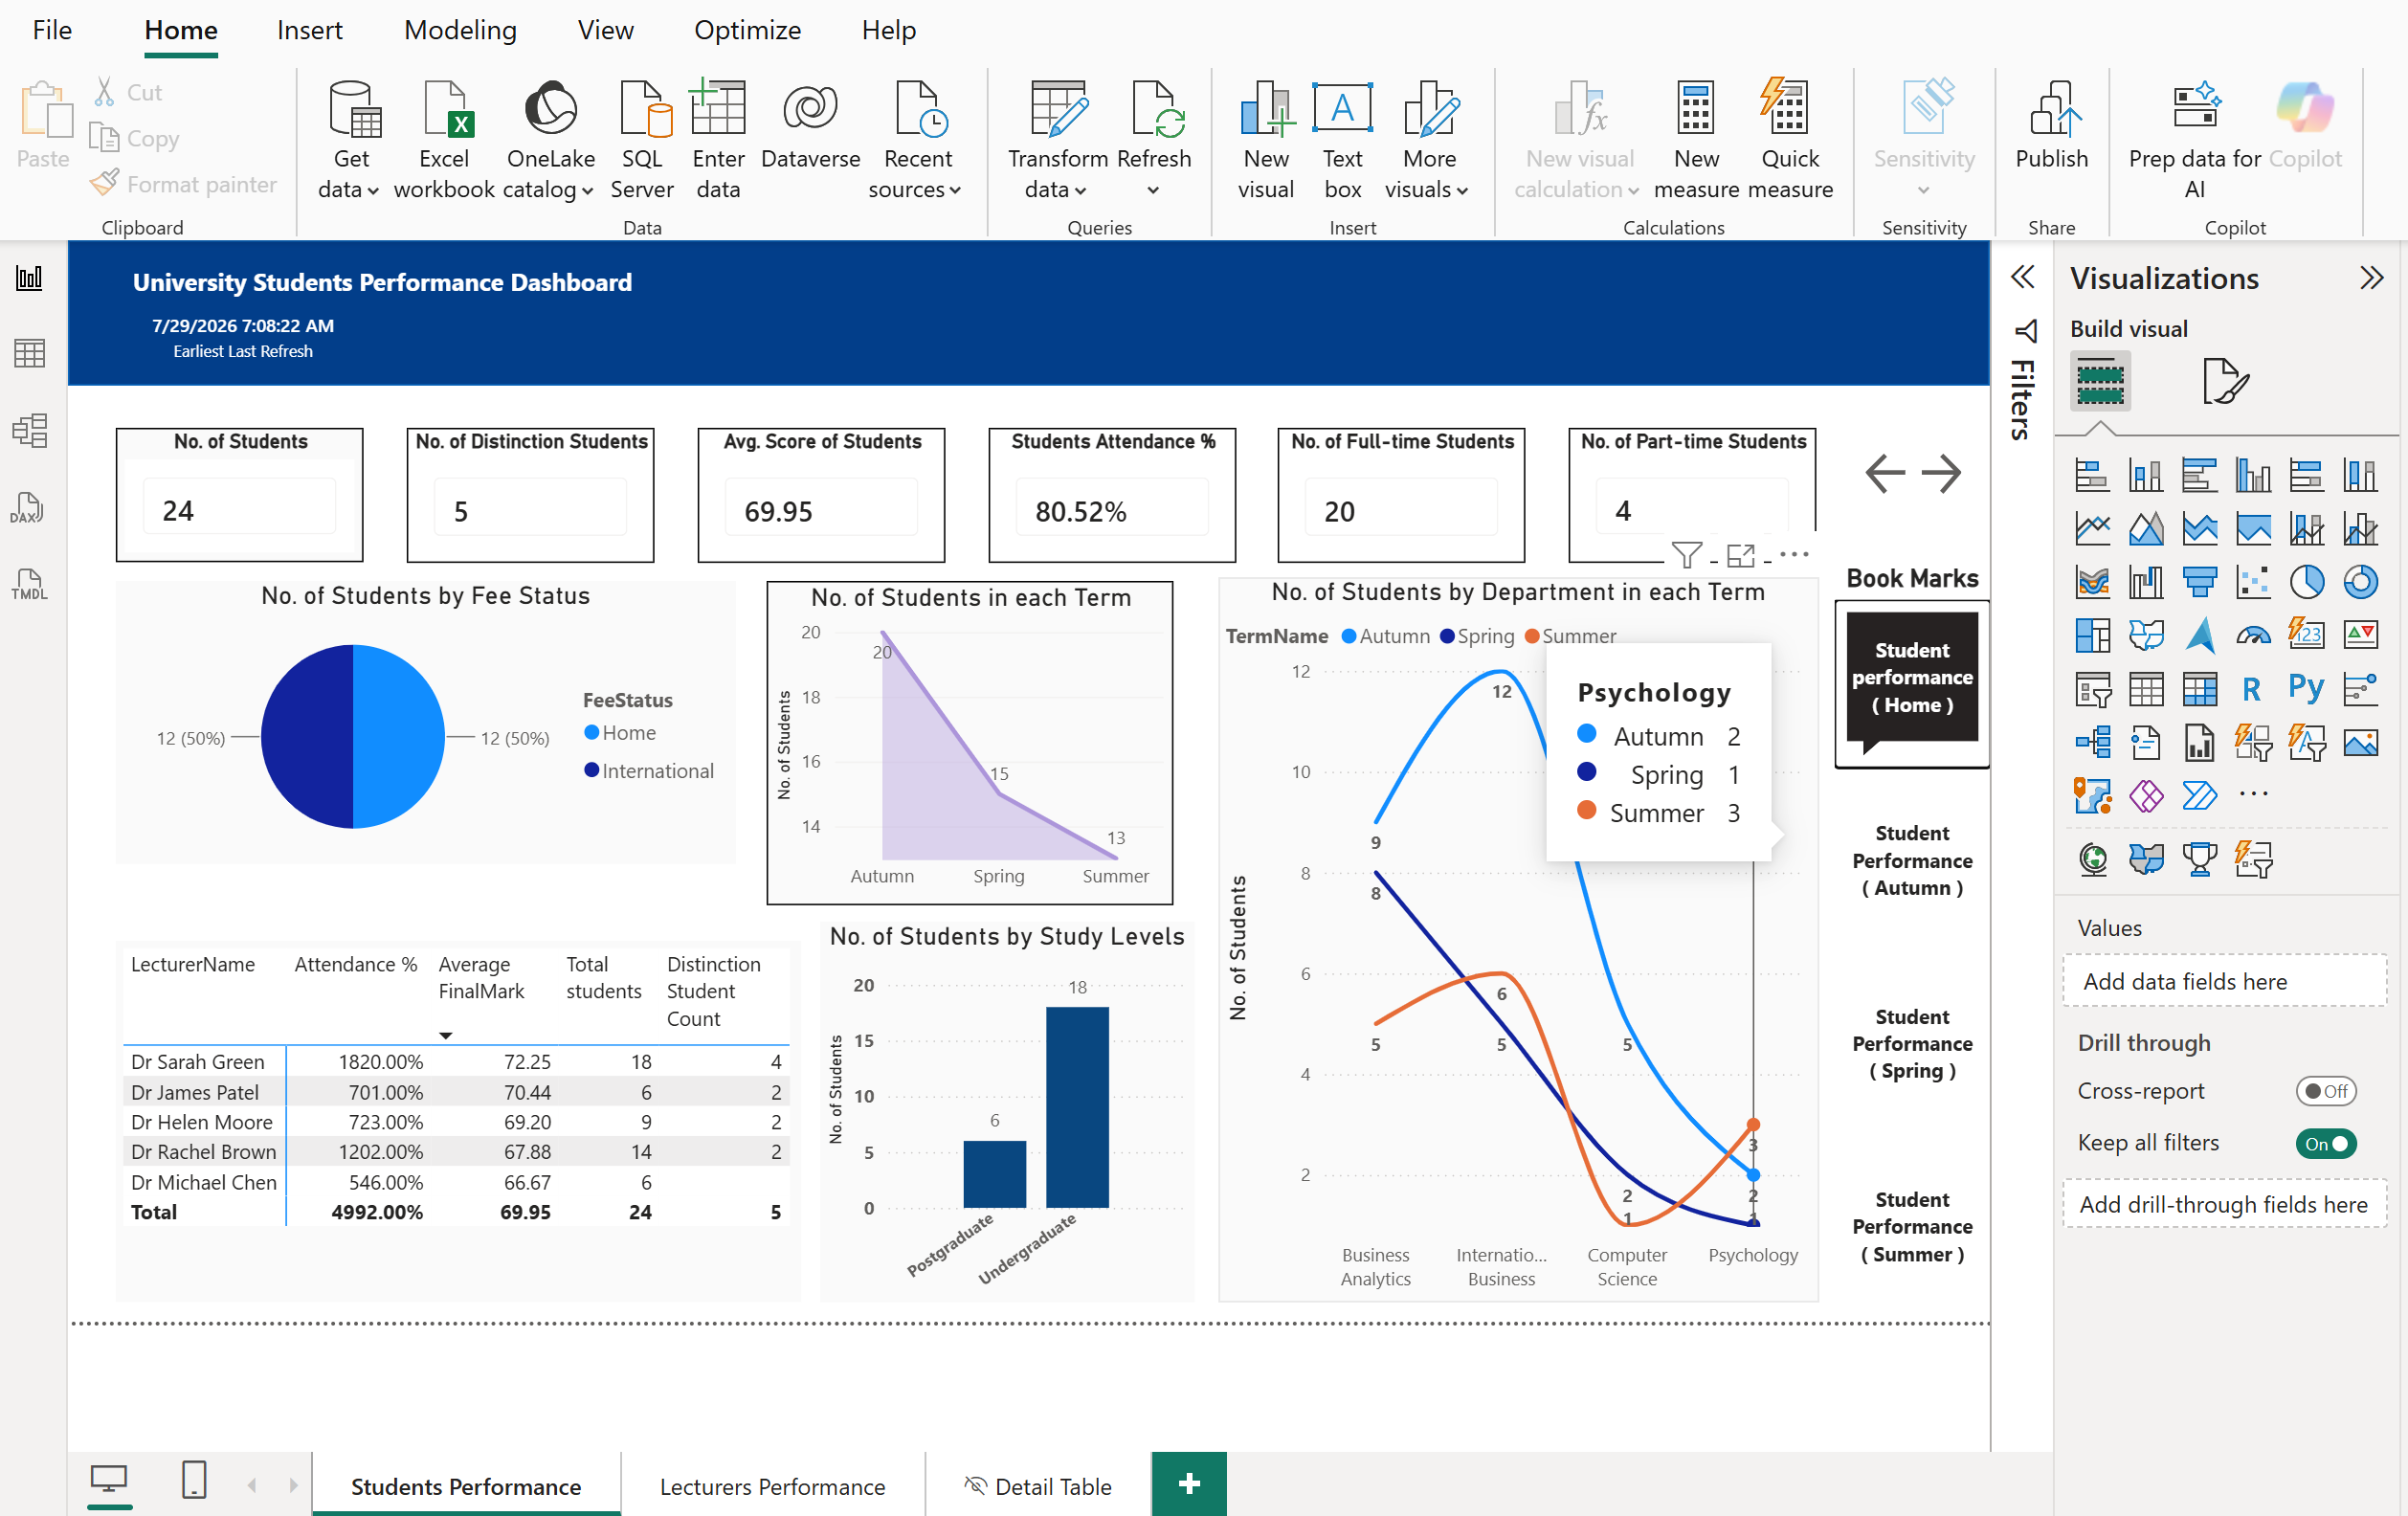

The page's visual inventory and layout, read from the dashboard file:
{"tool":"powerbi","page":{"name":"Students Performance","canvas":[1280,720],"ordinal":0},"visuals":[{"type":"shape","box":[0,0,1280,96.9],"z":0},{"type":"actionButton","box":[1229,124.6,36.2,60.9],"z":0,"group":"g2"},{"type":"cardVisual","title":"No. of Students","fields":{"Data":["Count(UniEnrolments.StudentID)"]},"box":[31.9,124.9,165.1,89.4],"z":0,"group":"g1"},{"type":"cardVisual","fields":{"Data":["Min(Toronto TimeZone Refresh.Last Refresh)"]},"box":[17.8,31.9,198.9,65],"z":1000},{"type":"cardVisual","title":"No. of Distinction Students","fields":{"Data":["UniEnrolments.Distinction Student Count"]},"box":[225.5,124.6,165.1,90],"z":1000,"group":"g1"},{"type":"actionButton","box":[1192.8,124.6,36.2,60.9],"z":1000,"group":"g2"},{"type":"textbox","box":[38.2,11.5,364.6,37],"z":2000},{"type":"cardVisual","title":"Avg. Score of Students","fields":{"Data":["Avg(UniEnrolments.FinalMark)"]},"box":[419.1,124.6,165.1,90],"z":2000,"group":"g1"},{"type":"group","id":"g1","title":"Group 1","box":[31.9,124.6,1133.3,91.3],"z":3000},{"type":"cardVisual","title":"Students Attendance %","fields":{"Data":["Avg(UniEnrolments.AttendancePct)"]},"box":[612.8,124.6,165.1,90],"z":3000,"group":"g1"},{"type":"cardVisual","title":"No. of Part-time Students","fields":{"Data":["Count(UniEnrolments.StudentID)"]},"box":[1000,124.7,165.2,89.9],"z":4000,"group":"g1"},{"type":"pieChart","title":"No. of Students by Fee Status","fields":{"Category":["UniStudents.FeeStatus"],"Y":["CountNonNull(UniStudents.StudentID)"]},"box":[31.9,227.5,413,188.4],"z":4000},{"type":"cardVisual","title":"No. of Full-time Students","fields":{"Data":["Count(UniEnrolments.StudentID)"]},"box":[806.4,124.6,165.1,90],"z":5000,"group":"g1"},{"type":"clusteredColumnChart","title":"No. of Students by Study Levels","fields":{"Category":["UniStudents.StudyLevels"],"Y":["Count(UniEnrolments.StudentID)"]},"box":[501.4,453.6,249.3,253.6],"z":5000},{"type":"lineChart","title":"No. of Students by Department in each Term","fields":{"Category":["UniLecturers.Department"],"Y":["Count(UniEnrolments.StudentID)"],"Series":["UniTerms.TermName"]},"box":[766.7,224.6,400,482.6],"z":6000},{"type":"areaChart","title":"No. of Students in each Term","fields":{"Y":["Count(UniEnrolments.StudentID)"],"Category":["UniTerms.TermName"]},"box":[465.2,227.5,271,215.9],"z":7000},{"type":"pivotTable","fields":{"Rows":["UniLecturers.LecturerName"],"Values":["Sum(UniEnrolments.AttendancePct)","Avg(UniEnrolments.FinalMark)","UniEnrolments.Total students","UniEnrolments.Distinction Student Count"]},"box":[31.9,466.7,456.5,240.6],"z":8000},{"type":"bookmarkNavigator","title":"Book Marks","box":[1176.8,215.9,104.3,505.8],"z":9000},{"type":"group","id":"g2","title":"Group 2","box":[1192.8,124.6,72.5,60.9],"z":10003}]}

Visuals, with their boxes on the page's 1280x720 design canvas (x1, y1, x2, y2). These are canvas units, not pixel positions in the 2408x1516 screenshot, which may show the page scaled, cropped or inside an application window:
shape: (0,0,1280,97)
actionButton: (1229,125,1265,186)
"No. of Students" cardVisual: (32,125,197,214)
cardVisual - Min(Toronto TimeZone Refresh.Last Refresh): (18,32,217,97)
"No. of Distinction Students" cardVisual: (226,125,391,215)
actionButton: (1193,125,1229,186)
textbox: (38,12,403,48)
"Avg. Score of Students" cardVisual: (419,125,584,215)
"Group 1" group: (32,125,1165,216)
"Students Attendance %" cardVisual: (613,125,778,215)
"No. of Part-time Students" cardVisual: (1000,125,1165,215)
"No. of Students by Fee Status" pieChart: (32,228,445,416)
"No. of Full-time Students" cardVisual: (806,125,972,215)
"No. of Students by Study Levels" clusteredColumnChart: (501,454,751,707)
"No. of Students by Department in each Term" lineChart: (767,225,1167,707)
"No. of Students in each Term" areaChart: (465,228,736,443)
pivotTable - UniLecturers.LecturerName x Sum(UniEnrolments.AttendancePct): (32,467,488,707)
"Book Marks" bookmarkNavigator: (1177,216,1281,722)
"Group 2" group: (1193,125,1265,186)
